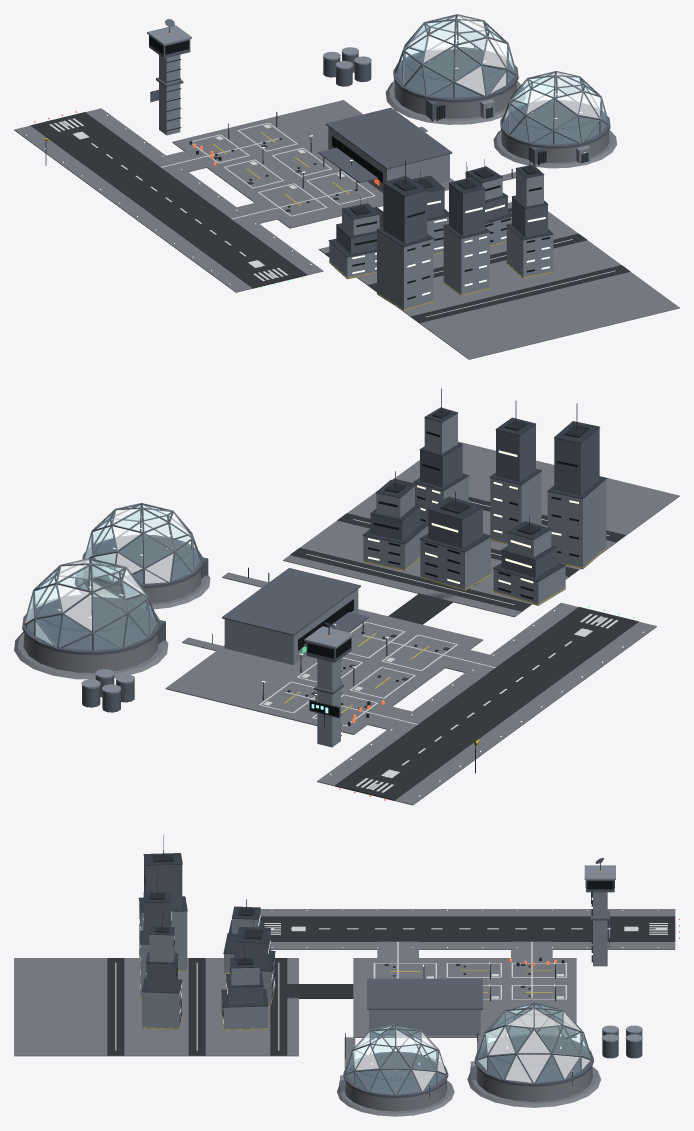
File: city-port-m.glb
3 views of the same model, one above another, from view 1: azimuth 30°, elevation 25°; view 2: azimuth 150°, elevation 25°; view 3: azimuth 270°, elevation 25° (orthographic). The views are drawn at different scales.
Visible parts, largest first — view 1: cityPlaza, apron, strip, dome0RingBeam, dome0Glazing, terminalRoof, stripShoulder1, dome1RingBeam, city3Mass0, dome1Glazing, stripShoulder0, city4Mass0 (+22 smaller); view 2: apron, strip, cityPlaza, dome0RingBeam, dome0Glazing, terminalRoof, stripShoulder1, dome1RingBeam, city3Mass0, stripShoulder0, dome1Glazing, terminal (+26 smaller); view 3: cityPlaza, apron, strip, dome0RingBeam, terminalRoof, dome1RingBeam, stripShoulder1, dome0GlazingGlare, dome1Glazing, terminal, dome0Glazing, stripShoulder0 (+23 smaller).
Part boxes in pixels (box(x1,y1,x2,y2)): cityPlaza: box(318, 202, 679, 359); apron: box(172, 100, 454, 228); strip: box(30, 112, 306, 288); dome0RingBeam: box(393, 47, 518, 102); dome0Glazing: box(396, 16, 514, 96); terminalRoof: box(326, 107, 452, 169); stripShoulder1: box(14, 125, 252, 292); dome1RingBeam: box(500, 100, 610, 148); city3Mass0: box(377, 230, 433, 310); dome1Glazing: box(503, 73, 607, 143); stripShoulder0: box(85, 108, 323, 275); city4Mass0: box(443, 226, 489, 295); apron: box(165, 609, 482, 734); strip: box(335, 607, 638, 800); cityPlaza: box(283, 441, 679, 617); dome0RingBeam: box(22, 594, 159, 655); dome0Glazing: box(27, 560, 156, 649); terminalRoof: box(222, 568, 360, 635); stripShoulder1: box(395, 621, 656, 805); dome1RingBeam: box(82, 534, 202, 588); city3Mass0: box(547, 479, 606, 569); stripShoulder0: box(317, 602, 577, 786); dome1Glazing: box(93, 505, 199, 582); terminal: box(224, 589, 358, 664); cityPlaza: box(14, 958, 298, 1056); apron: box(353, 958, 576, 1037); strip: box(260, 916, 675, 941); dome0RingBeam: box(474, 1034, 593, 1086); terminalRoof: box(367, 978, 482, 1009); dome1RingBeam: box(343, 1051, 448, 1097); stripShoulder1: box(260, 909, 675, 916); dome0GlazingGlare: box(478, 1005, 589, 1082); dome1Glazing: box(346, 1025, 444, 1093); terminal: box(369, 1010, 480, 1035); dome0Glazing: box(478, 1004, 590, 1082); stripShoulder0: box(270, 942, 675, 949).
Size of the model in its own units: 149 by 42.72 by 196.
